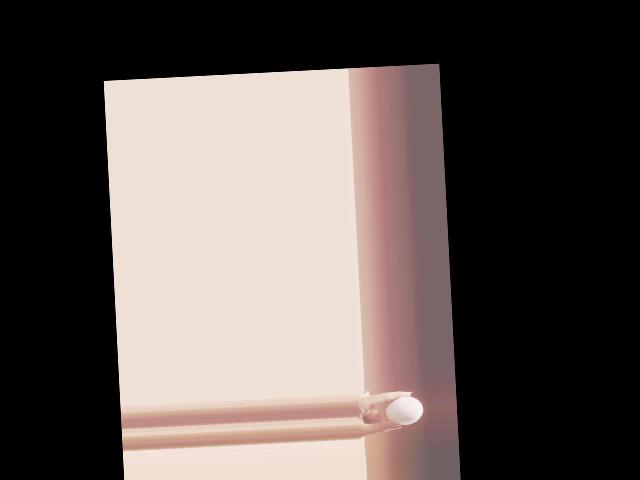egg: (384, 396, 423, 426)
